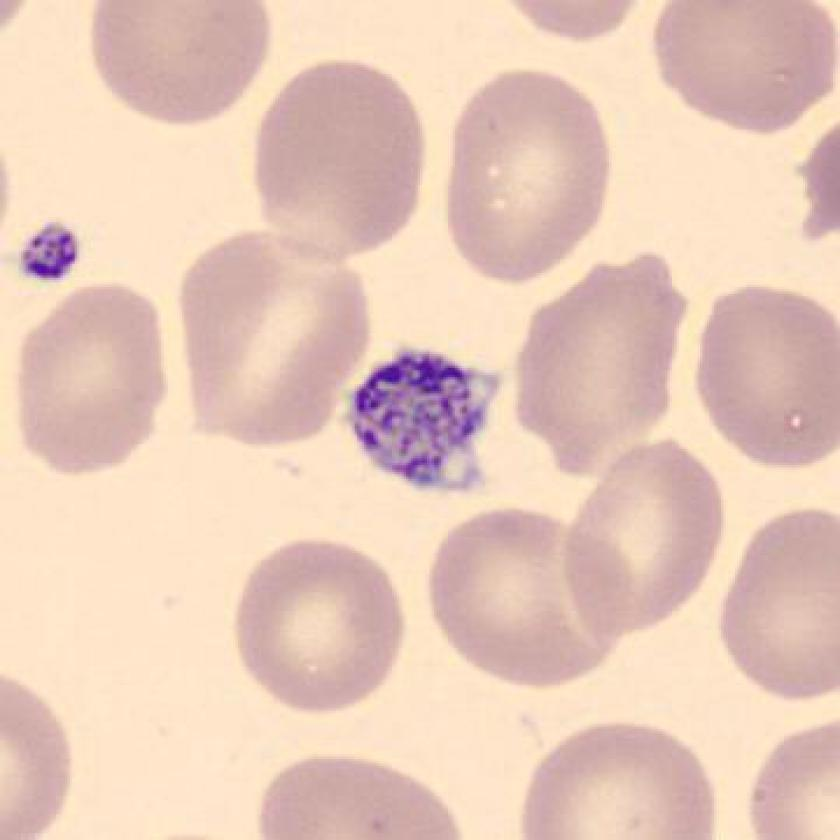platelets: (344, 339, 505, 498), (8, 212, 92, 300)
